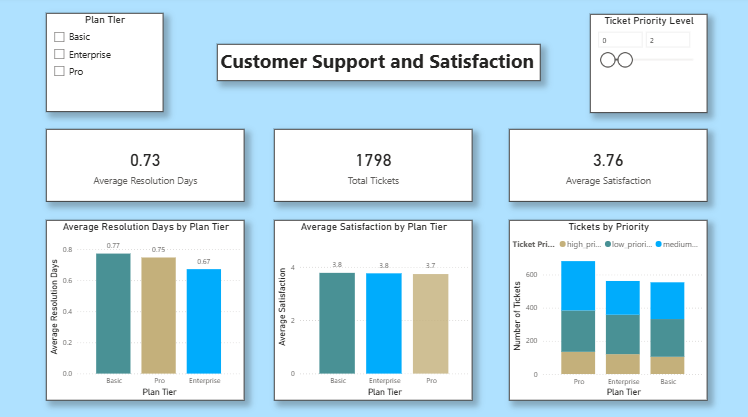

Layout of this report page (visuals, bound fields, positions):
{"tool":"powerbi","page":{"name":"Page 4","canvas":[1280,720],"ordinal":3},"visuals":[{"type":"card","fields":{"Values":["clean fact_support.Avg Resolution Days"]},"box":[9.7,111,334.2,121.9],"z":0},{"type":"kpi","title":"Average Satisfaction Score","fields":{"Indicator":["clean fact_support.Average Satisfaction"],"TrendLine":["clean accounts.account_id"],"Goal":["Avg(clean fact_support.Custom)"]},"box":[710.6,109.8,334.2,121.9],"z":1000},{"type":"slicer","title":"Plan TIer","fields":{"Values":["clean fact_accounts.plan_tier"]},"box":[1138.9,276.3,113.4,166.5],"z":2000},{"type":"card","fields":{"Values":["clean fact_support.Total Tickets"]},"box":[357.1,111,333,121.9],"z":3000},{"type":"columnChart","title":"Tickets by Priority","fields":{"Y":["Sum(fact_support_unpivoted.Tickets)"],"Category":["clean fact_accounts.plan_tier"],"Series":["fact_support_unpivoted.Ticket Priority"]},"box":[786.6,276.3,341.4,400.5],"z":4000},{"type":"slicer","title":"Ticket Priority Level","fields":{"Values":["clean fact_support.high_priority_tickets"]},"box":[1056.1,110,196,121.5],"z":5000},{"type":"columnChart","title":"Average Resolution Days by Plan Tier","fields":{"Y":["clean fact_support.Avg Resolution Days"],"Category":["clean fact_accounts.plan_tier"]},"box":[9.7,276.3,375.2,400.5],"z":6000},{"type":"columnChart","title":"Average Satisfaction by Plan Tier","fields":{"Y":["clean fact_support.Average Satisfaction"],"Category":["clean fact_accounts.plan_tier"]},"box":[396.9,276.3,374,400.5],"z":7000},{"type":"textbox","box":[368,26.5,542.9,62.7],"z":8000},{"type":"slicer","title":"Account ","fields":{"Values":["clean fact_support.account_id"]},"box":[1138.9,464.5,113.4,212.3],"z":8001}]}

Visuals, with their boxes in screenshot pixels (x1, y1, x2, y2), scaled from the page's 1280x720 canvas onto the 748x417 screenshot:
card - clean fact_support.Avg Resolution Days: left=6, top=64, right=201, bottom=135
"Average Satisfaction Score" kpi: left=415, top=64, right=611, bottom=134
"Plan TIer" slicer: left=666, top=160, right=732, bottom=256
card - clean fact_support.Total Tickets: left=209, top=64, right=403, bottom=135
"Tickets by Priority" columnChart: left=460, top=160, right=659, bottom=392
"Ticket Priority Level" slicer: left=617, top=64, right=732, bottom=134
"Average Resolution Days by Plan Tier" columnChart: left=6, top=160, right=225, bottom=392
"Average Satisfaction by Plan Tier" columnChart: left=232, top=160, right=450, bottom=392
textbox: left=215, top=15, right=532, bottom=52
"Account " slicer: left=666, top=269, right=732, bottom=392
